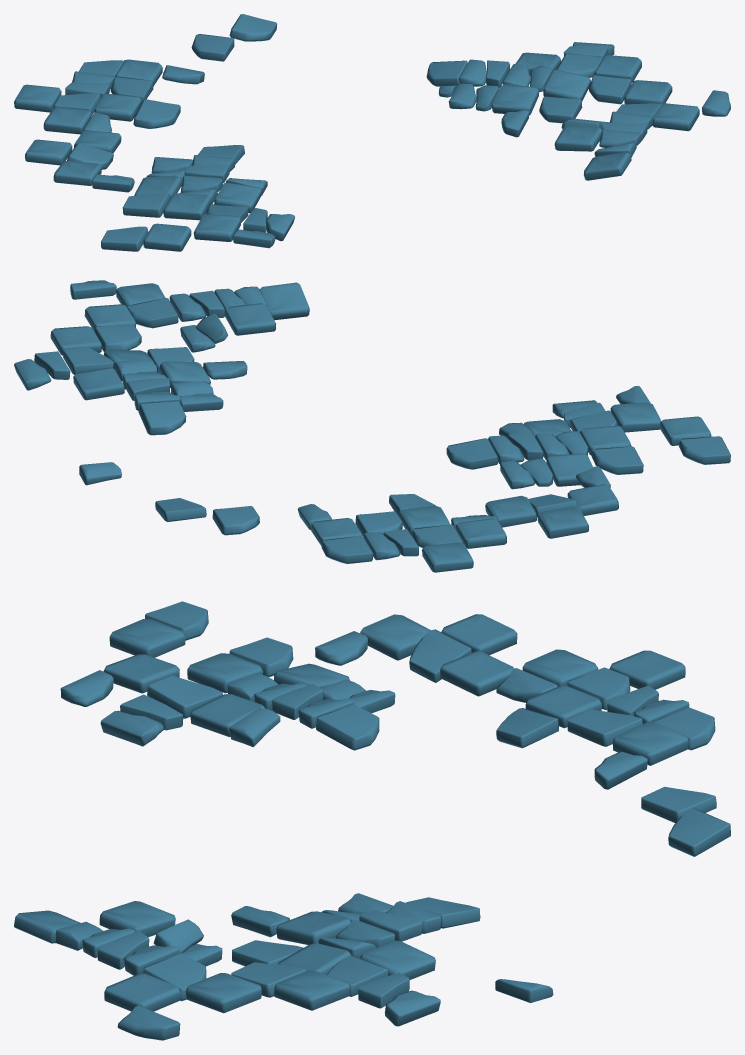
Rendered from Floor_Break_05E_Lod0.fbx.
The picture shows the model from 3 angles, top to bottom: view 1: azimuth 30°, elevation 25°; view 2: azimuth 150°, elevation 25°; view 3: azimuth 270°, elevation 25°; orthographic projection. The views are drawn at different scales.
Parts seen in each view (by area): view 1: Floor_Break_05E_Lod0; view 2: Floor_Break_05E_Lod0; view 3: Floor_Break_05E_Lod0.
Boxes of the visible parts, box(x1,y1,x2,y2) form: Floor_Break_05E_Lod0: box(14, 14, 730, 251); Floor_Break_05E_Lod0: box(14, 280, 730, 572); Floor_Break_05E_Lod0: box(14, 601, 730, 1040).
Bounding box in the file's own units: 905 × 79.46 × 636.
